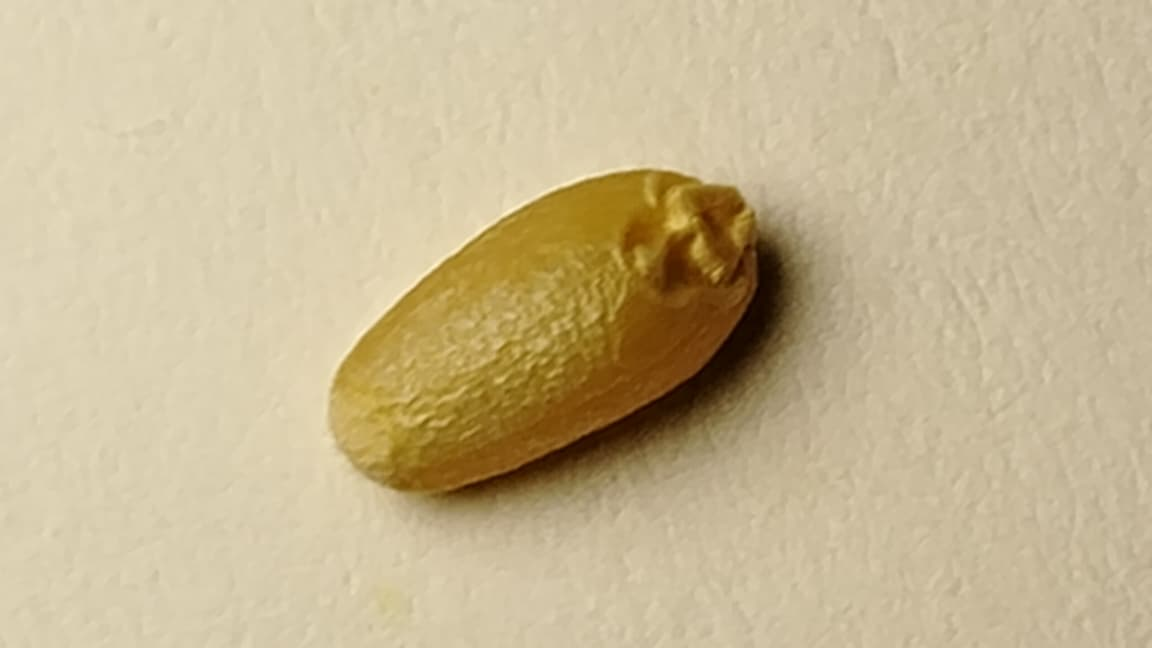healthy: (330, 168, 756, 492)
